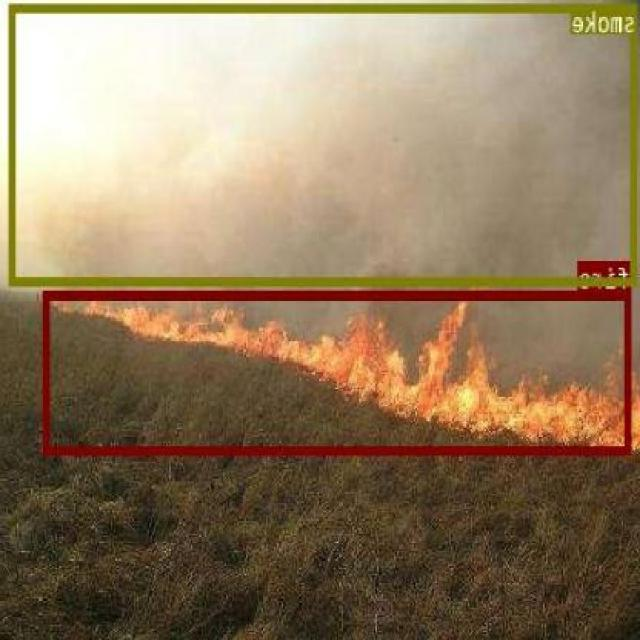Fire: (45, 289, 632, 454)
Smoke: (10, 2, 639, 284)
